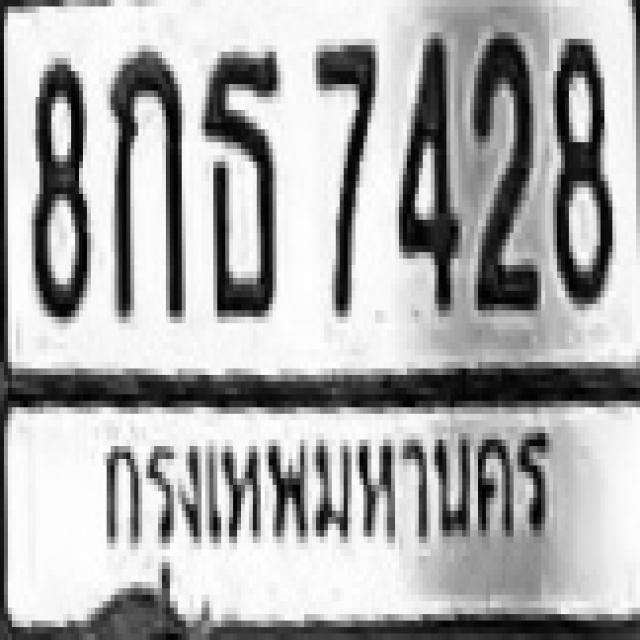10GorGai: (106, 45, 182, 317)
2: (470, 29, 533, 307)
33ThorThong: (198, 46, 276, 310)
4: (395, 29, 454, 307)
7: (312, 39, 375, 310)
8: (549, 32, 609, 298), (28, 51, 87, 316)
Bangkok: (90, 410, 564, 596)
